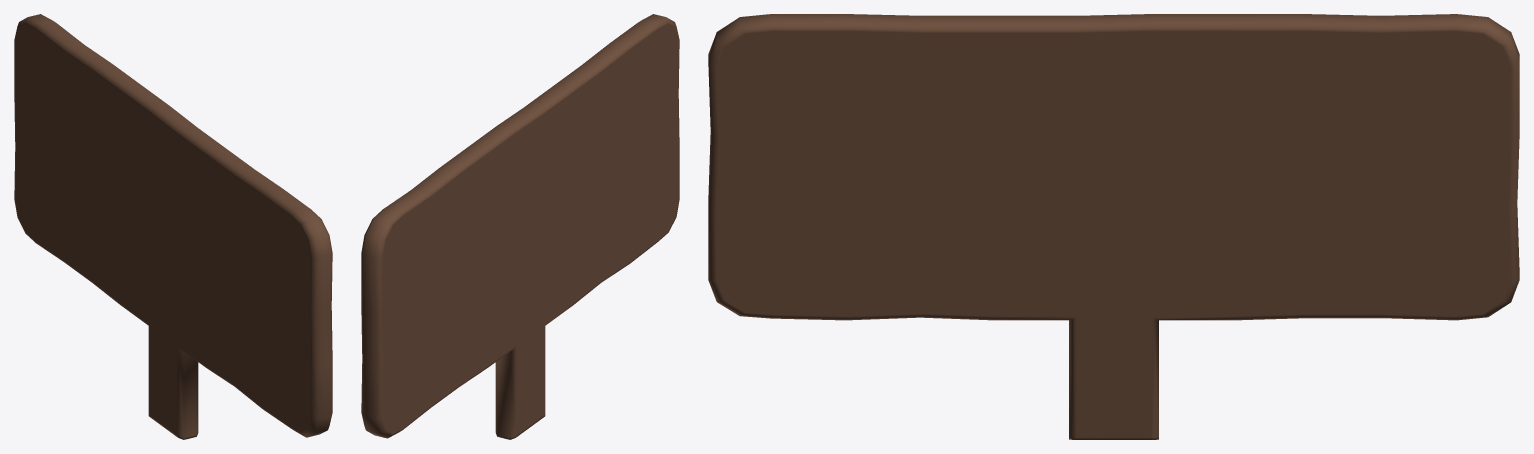
File: LVR_StartTarget.fbx
3 renders of one model, left to right at view 1: azimuth 30°, elevation 25°; view 2: azimuth 150°, elevation 25°; view 3: azimuth 270°, elevation 25°, orthographic. The views are drawn at different scales.
Parts seen in each view (by area): view 1: target; view 2: target; view 3: target.
Boxes of the visible parts, bbox=[...] form: target: bbox=[14, 14, 332, 439]; target: bbox=[361, 14, 679, 439]; target: bbox=[708, 14, 1519, 439].
Size of the model in its own units: 7.73 by 113 by 200.
